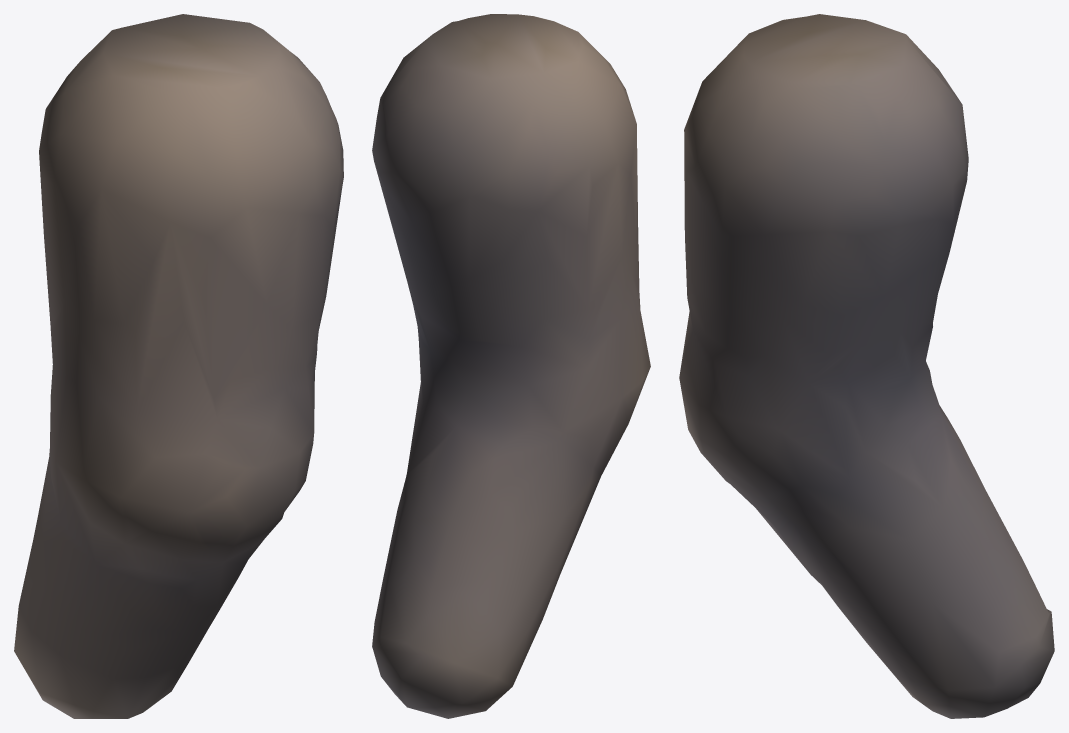
File: husk_thigh_l.glb
The picture shows the model from 3 angles, left to right: view 1: azimuth 30°, elevation 25°; view 2: azimuth 150°, elevation 25°; view 3: azimuth 270°, elevation 25°; orthographic projection. The views are drawn at different scales.
Visible parts, largest first — view 1: geometry_0; view 2: geometry_0; view 3: geometry_0.
Boxes of the visible parts, left/top/right/bottom form: geometry_0: left=14, top=14, right=343, bottom=718; geometry_0: left=372, top=14, right=650, bottom=718; geometry_0: left=679, top=14, right=1054, bottom=718.
Size of the model in its own units: 0.2447 by 0.6194 by 0.3158.
